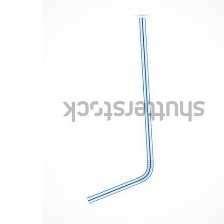drinking_straw: (81, 9, 159, 208)
